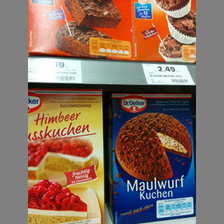cake: (109, 92, 196, 224), (28, 88, 104, 224)
